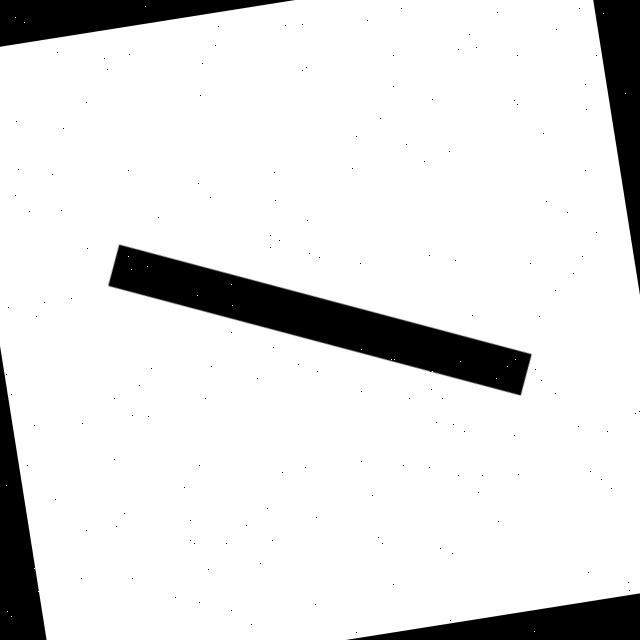line: (108, 245, 531, 396)
